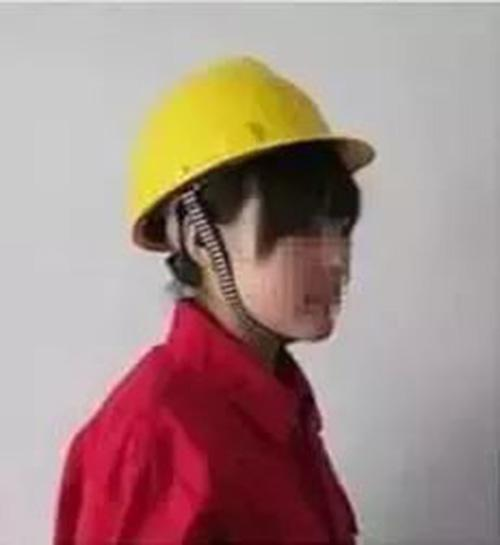helmet: (129, 44, 383, 350)
